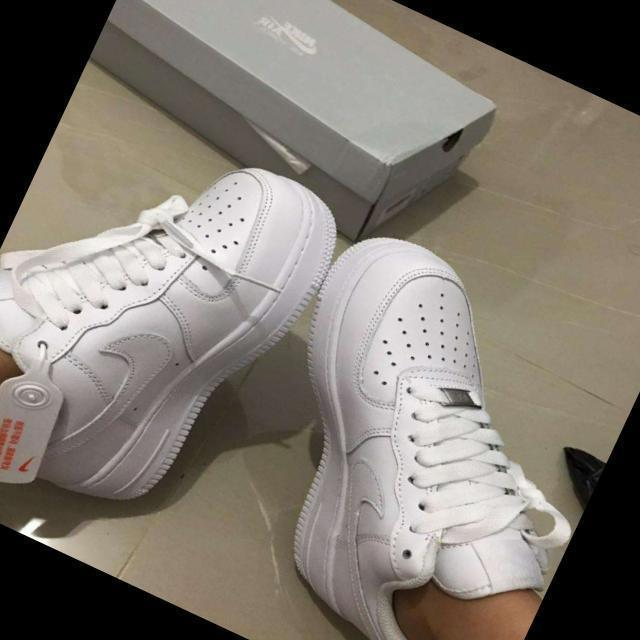nike original air force: (182, 212, 640, 640), (0, 78, 357, 554)
